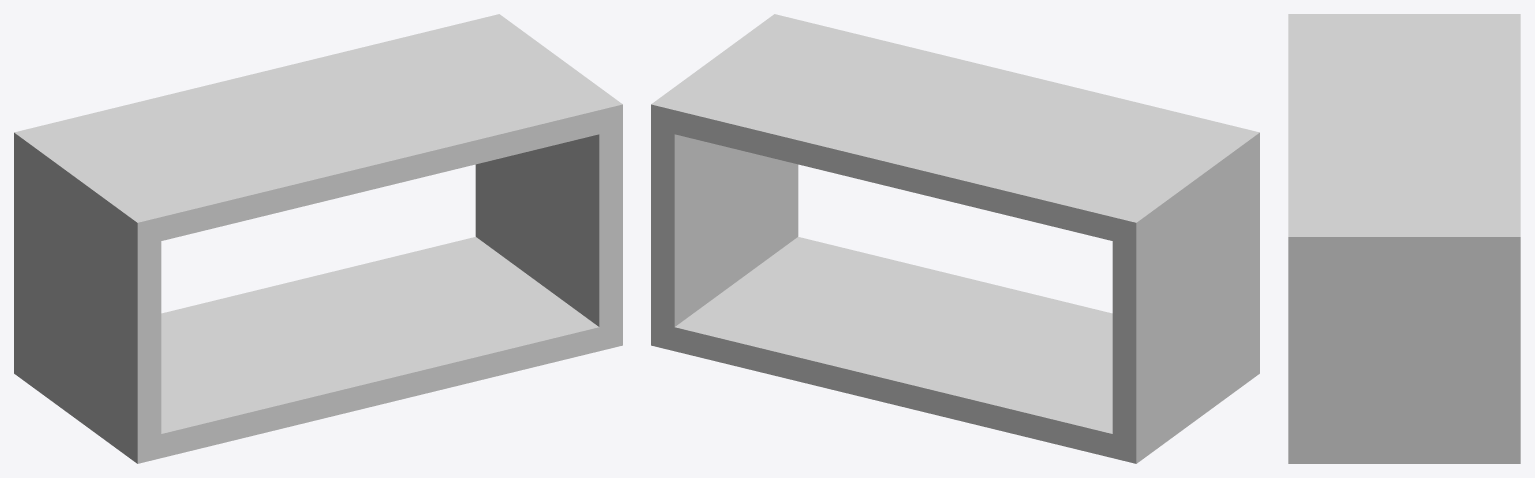
Rendered from wall_shelf_1.glb.
3 renders of one model, left to right at view 1: azimuth 30°, elevation 25°; view 2: azimuth 150°, elevation 25°; view 3: azimuth 270°, elevation 25°, orthographic. The views are drawn at different scales.
Parts seen in each view (by area): view 1: WallShelf (Rect-Short); view 2: WallShelf (Rect-Short); view 3: WallShelf (Rect-Short).
Boxes of the visible parts, bbox=[...] form: WallShelf (Rect-Short): bbox=[14, 14, 622, 463]; WallShelf (Rect-Short): bbox=[651, 14, 1259, 463]; WallShelf (Rect-Short): bbox=[1288, 14, 1520, 463].
Bounding box in the file's own units: 1 × 0.4746 × 0.4408.
Materials: 1 (1 with a texture image).
